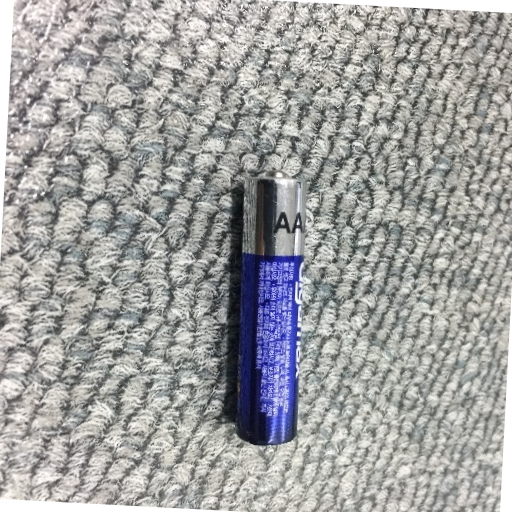Battery_0: (227, 166, 319, 450)
